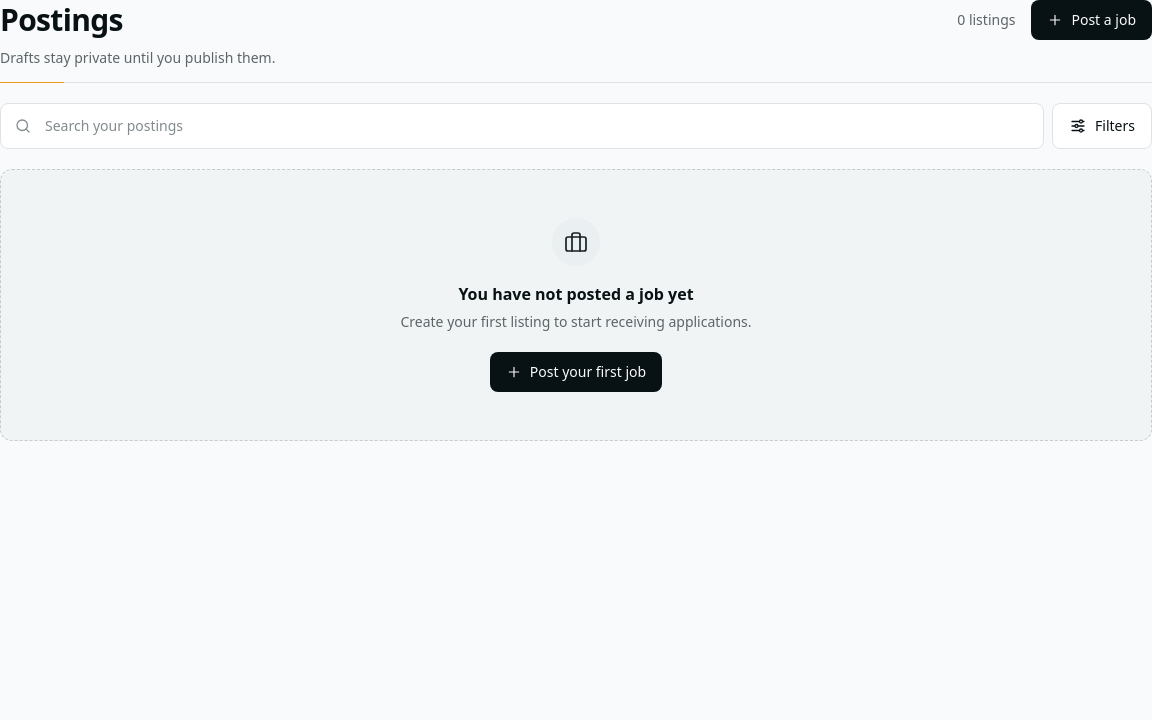
it: HrJobsPage › validates before sending anything to the server
Expected: the text "You have not posted a job yet" is shown, [458,283,694,305]
Click the button "Post a job".
click(1092, 20)  # box [1032,0,1151,40]
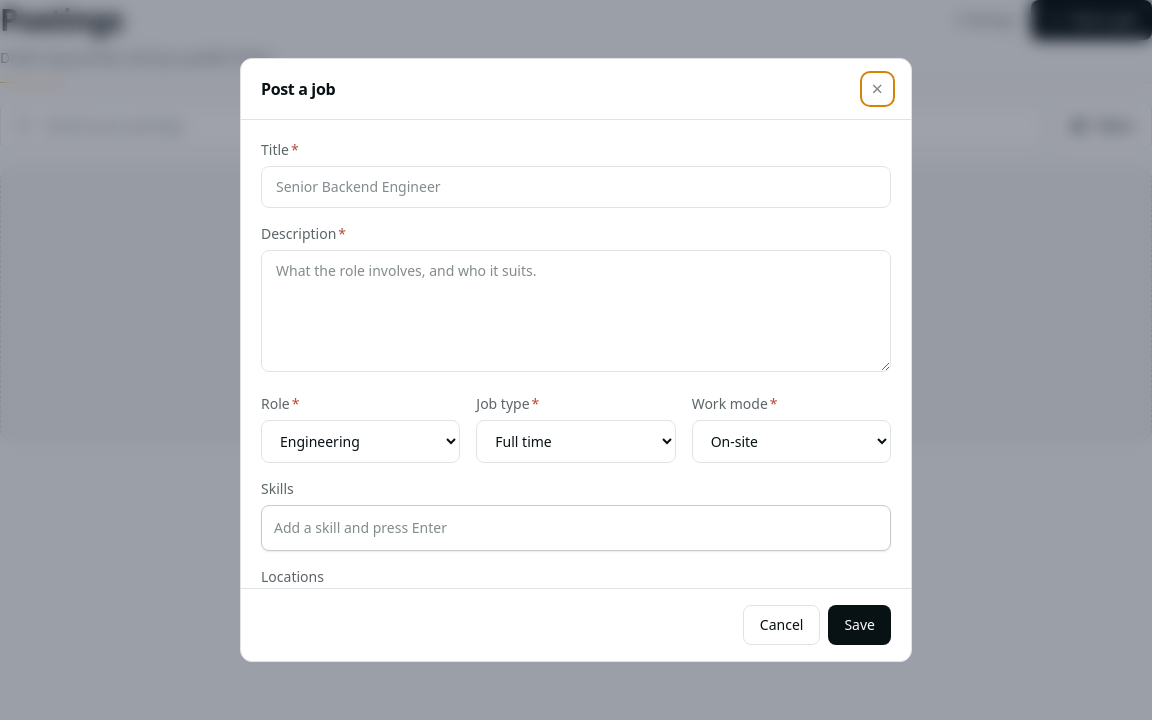
Click the button "Save".
click(860, 625)  # box [828,605,891,645]
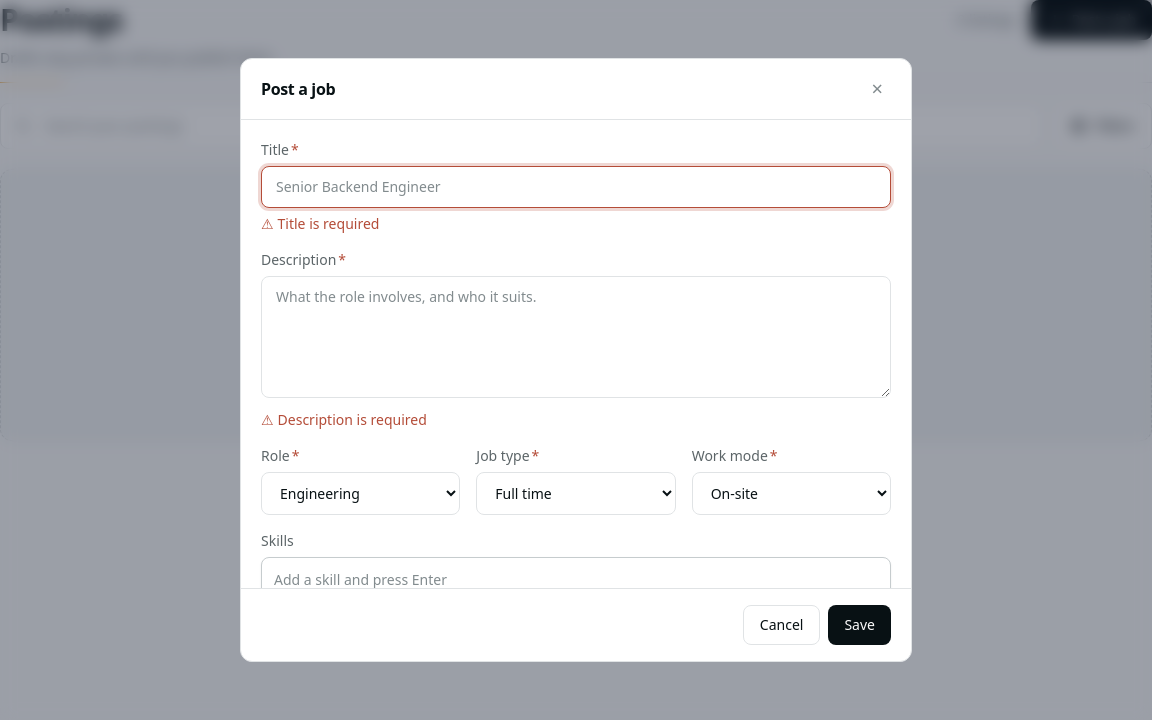
Now the text "Title is required" is shown, box [278,214,379,234]
